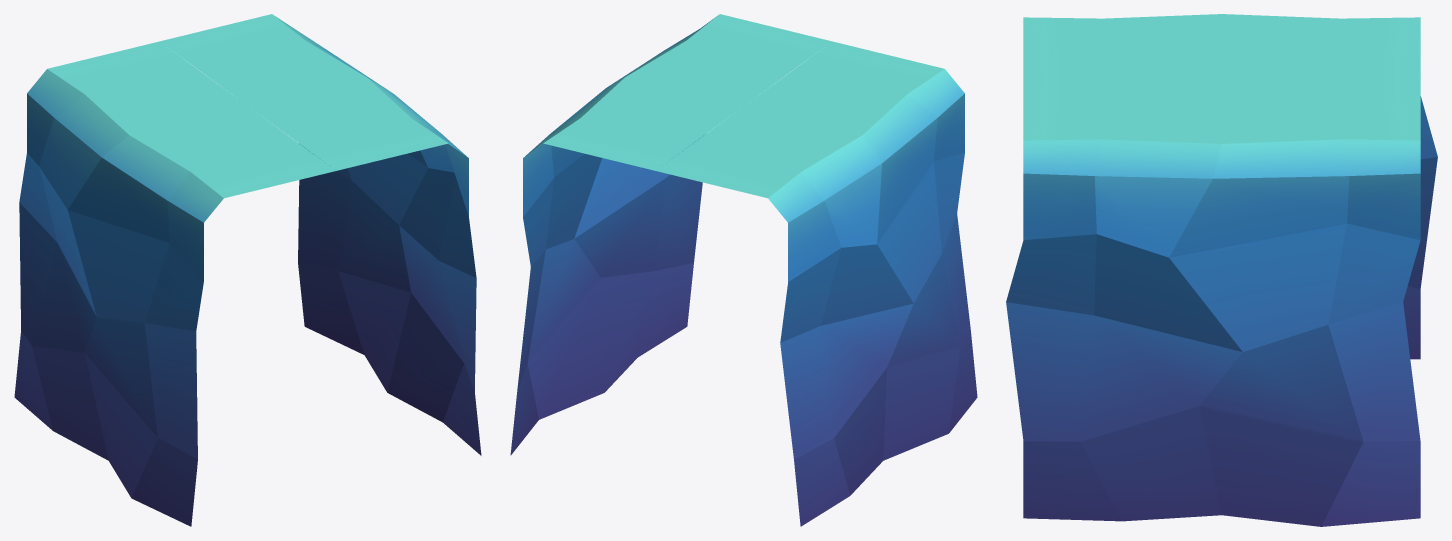
The picture shows the model from 3 angles, left to right: view 1: azimuth 30°, elevation 25°; view 2: azimuth 150°, elevation 25°; view 3: azimuth 270°, elevation 25°; orthographic projection. The views are drawn at different scales.
Visible parts, largest first — view 1: Side.006, Side.016, SideSmallRight.005, TopSide.010, TopSide.018, TopSide.009, TopSide.017, SideSmallLeft.005, SideSmallRight.009, SideSmallLeft.009; view 2: Side.006, Side.016, SideSmallLeft.005, TopSide.009, TopSide.017, TopSide.010, TopSide.018, SideSmallRight.005, SideSmallLeft.009, SideSmallRight.009; view 3: Side.016, SideSmallLeft.009, SideSmallRight.009, TopSide.017, TopSide.018, TopSide.009, TopSide.010, SideSmallLeft.005.
Boxes of the visible parts, bbox=[...] form: Side.006: bbox=[31, 94, 190, 497]; Side.016: bbox=[306, 41, 464, 422]; SideSmallRight.005: bbox=[131, 172, 223, 526]; TopSide.010: bbox=[129, 106, 335, 198]; TopSide.018: bbox=[160, 14, 366, 105]; TopSide.009: bbox=[47, 41, 247, 134]; TopSide.017: bbox=[248, 77, 448, 170]; SideSmallLeft.005: bbox=[14, 69, 84, 430]; SideSmallRight.009: bbox=[274, 15, 364, 354]; SideSmallLeft.009: bbox=[413, 119, 481, 455]; Side.006: bbox=[801, 94, 960, 495]; Side.016: bbox=[527, 41, 685, 419]; SideSmallLeft.005: bbox=[768, 172, 850, 526]; TopSide.009: bbox=[656, 106, 862, 198]; TopSide.017: bbox=[625, 14, 831, 105]; TopSide.010: bbox=[744, 41, 944, 134]; TopSide.018: bbox=[543, 77, 743, 170]; SideSmallRight.005: bbox=[907, 69, 977, 432]; SideSmallLeft.009: bbox=[637, 16, 716, 357]; SideSmallRight.009: bbox=[510, 119, 578, 455]; Side.016: bbox=[1080, 139, 1363, 526]; SideSmallLeft.009: bbox=[1006, 139, 1122, 521]; SideSmallRight.009: bbox=[1321, 139, 1420, 526]; TopSide.017: bbox=[1023, 79, 1221, 143]; TopSide.018: bbox=[1222, 79, 1420, 143]; TopSide.009: bbox=[1222, 14, 1420, 78]; TopSide.010: bbox=[1023, 14, 1221, 78]; SideSmallLeft.005: bbox=[1403, 96, 1437, 359].
Bounding box in the file's own units: 315 × 300 × 326.
